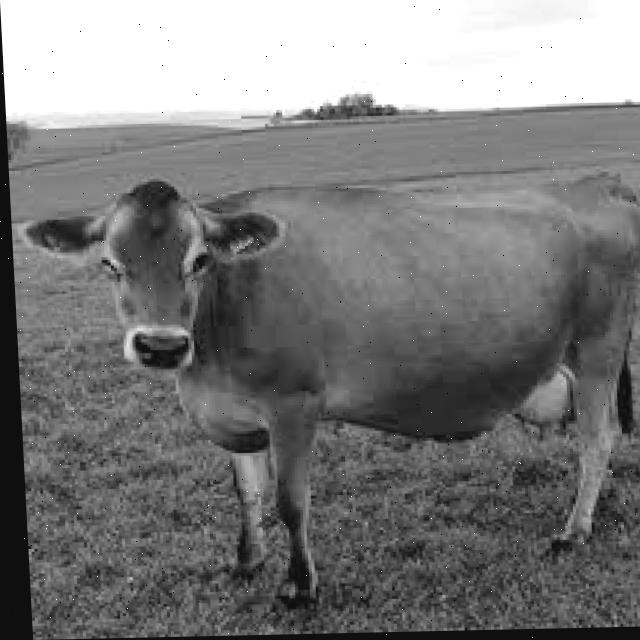Cow: (15, 162, 640, 618)
